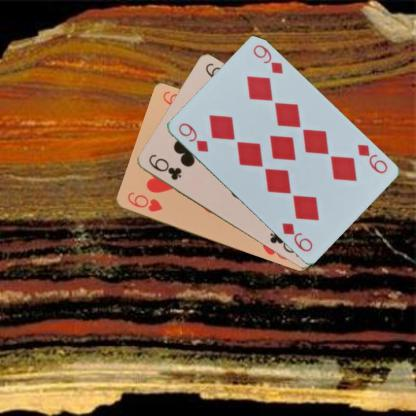6c: (146, 151, 182, 182)
6h: (124, 190, 164, 213)
9d: (175, 120, 210, 154), (354, 142, 389, 175)
